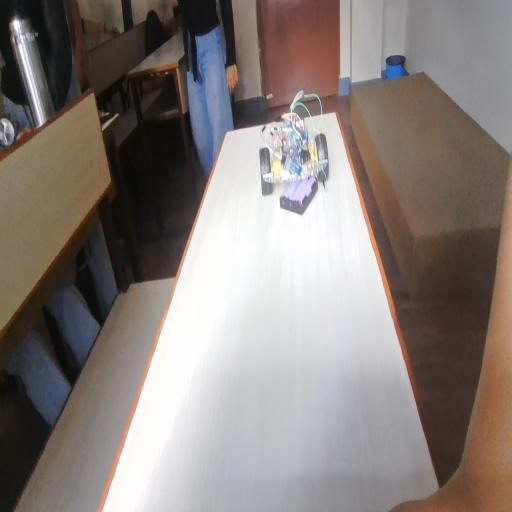car: (269, 108, 328, 201)
